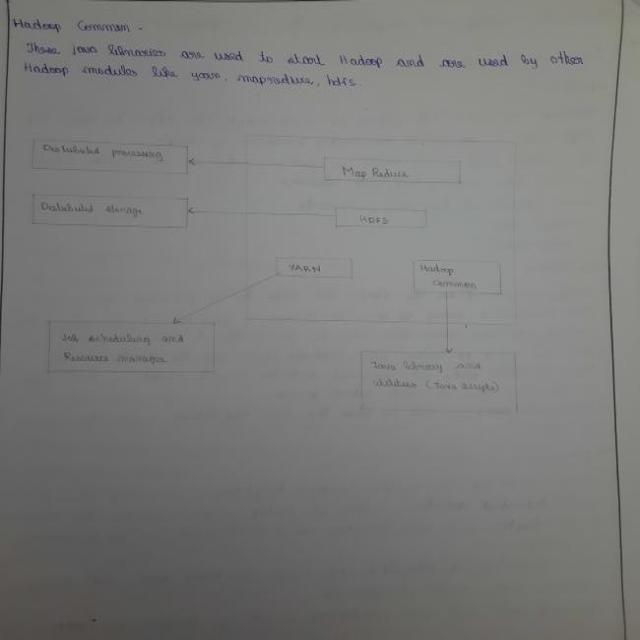Figure Detection - v3 Dataset Version2: (9, 111, 552, 432)
